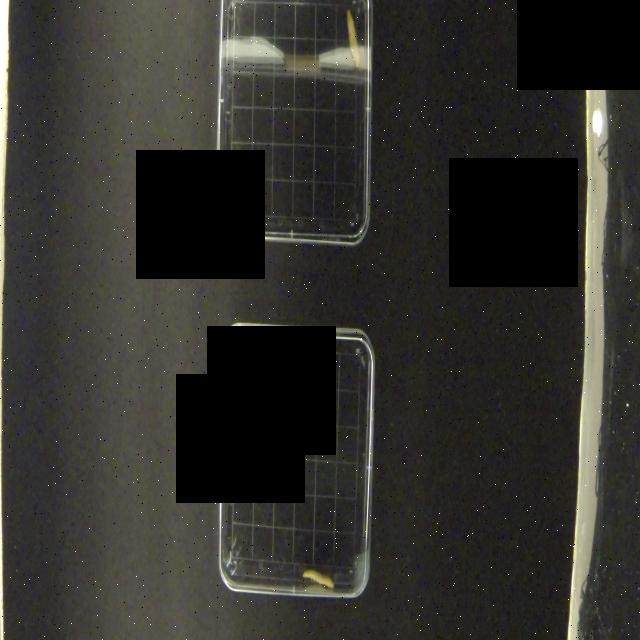larva: (345, 5, 362, 70), (300, 562, 337, 591)
